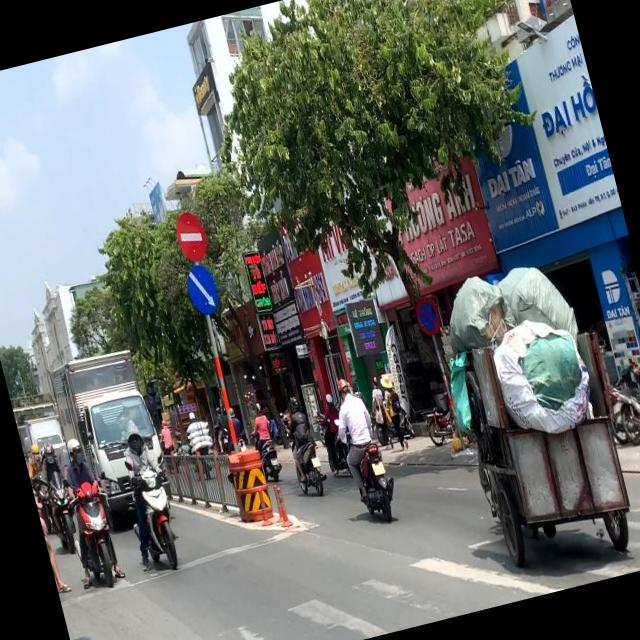P-102: (172, 209, 210, 264)
P-131a: (410, 289, 445, 338)
R-302a: (184, 262, 221, 316)
